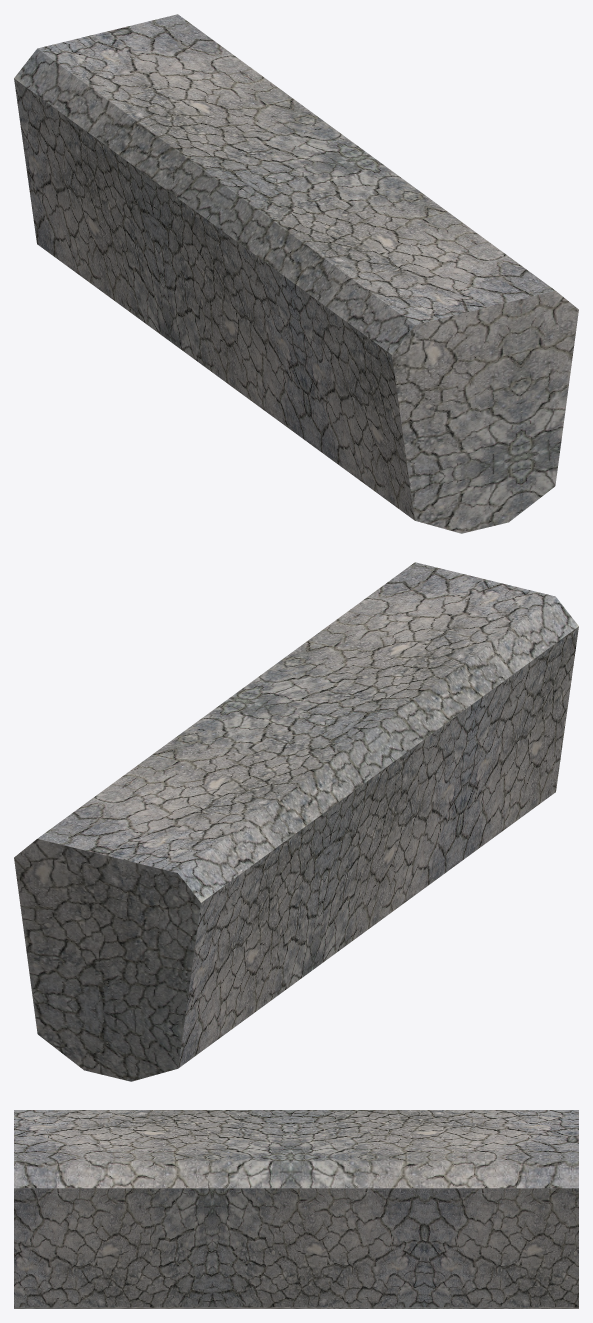
Rendered from way_ground.fbx.
3 renders of one model, top to bottom at view 1: azimuth 30°, elevation 25°; view 2: azimuth 150°, elevation 25°; view 3: azimuth 270°, elevation 25°, orthographic. The views are drawn at different scales.
Visible parts, largest first — view 1: Circle; view 2: Circle; view 3: Circle.
Boxes of the visible parts, x1=… form: Circle: x1=14, y1=14, x2=578, y2=533; Circle: x1=14, y1=562, x2=578, y2=1081; Circle: x1=14, y1=1110, x2=578, y2=1308.
Size of the model in its own units: 8 by 9 by 28.
